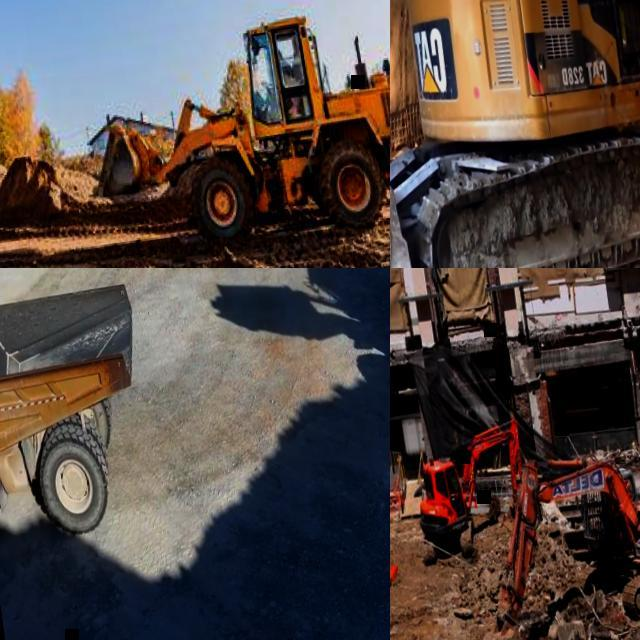machinery: (69, 0, 390, 268), (390, 0, 640, 268), (0, 268, 174, 557), (459, 451, 640, 640), (405, 416, 537, 571)
person: (579, 0, 640, 80)
